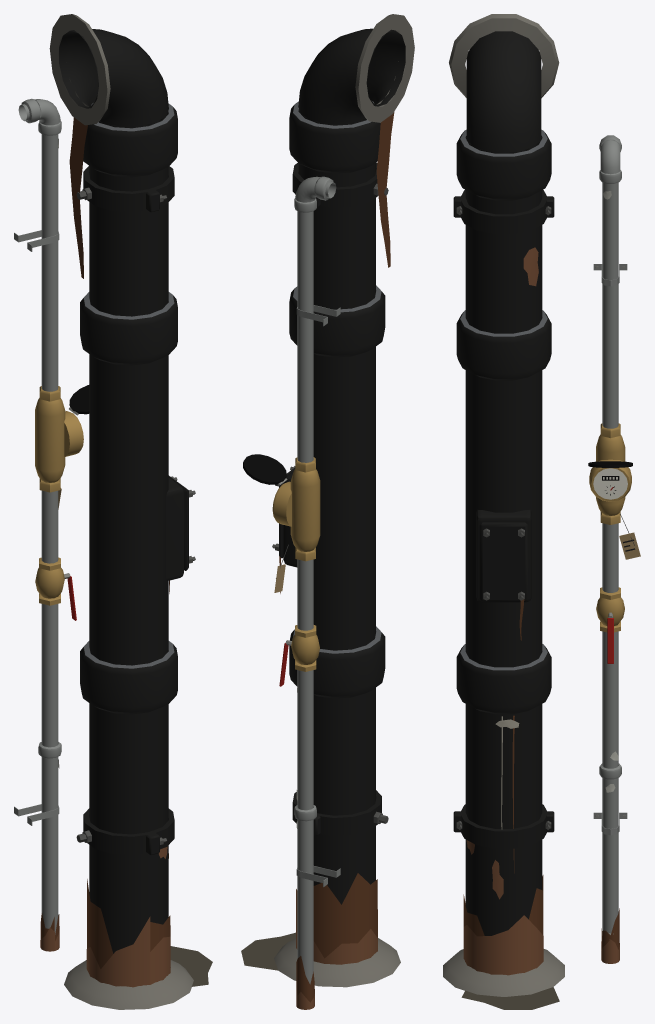
The model's file is pipe_riser@1.glb.
The picture shows the model from 3 angles, left to right: view 1: azimuth 30°, elevation 25°; view 2: azimuth 150°, elevation 25°; view 3: azimuth 270°, elevation 25°; orthographic projection. The views are drawn at different scales.
Parts seen in each view (by area): view 1: steigleitung_guss0, steigleitung_guss4, steigleitung_guss3, steigleitung_guss5, steigleitung_guss14, steigleitung_guss13, steigleitung_guss1, steigleitung_guss17, steigleitung_guss2, steigleitung_guss9; view 2: steigleitung_guss0, steigleitung_guss4, steigleitung_guss13, steigleitung_guss3, steigleitung_guss5, steigleitung_guss14, steigleitung_guss17, steigleitung_guss9, steigleitung_guss1; view 3: steigleitung_guss0, steigleitung_guss4, steigleitung_guss3, steigleitung_guss14, steigleitung_guss5, steigleitung_guss13, steigleitung_guss1, steigleitung_guss17, steigleitung_guss8, steigleitung_guss2.
Boxes of the visible parts, x1=… form: steigleitung_guss0: x1=59, y1=29, x2=188, y2=953; steigleitung_guss4: x1=14, y1=98, x2=61, y2=934; steigleitung_guss3: x1=49, y1=14, x2=193, y2=1009; steigleitung_guss5: x1=35, y1=386, x2=83, y2=605; steigleitung_guss14: x1=40, y1=846, x2=170, y2=987; steigleitung_guss13: x1=40, y1=117, x2=170, y2=968; steigleitung_guss1: x1=83, y1=103, x2=174, y2=668; steigleitung_guss17: x1=170, y1=946, x2=212, y2=986; steigleitung_guss2: x1=76, y1=187, x2=195, y2=844; steigleitung_guss9: x1=69, y1=385, x2=89, y2=414; steigleitung_guss0: x1=279, y1=28, x2=405, y2=904; steigleitung_guss4: x1=294, y1=176, x2=340, y2=984; steigleitung_guss13: x1=279, y1=112, x2=394, y2=1002; steigleitung_guss3: x1=274, y1=14, x2=414, y2=987; steigleitung_guss5: x1=272, y1=457, x2=320, y2=671; steigleitung_guss14: x1=296, y1=889, x2=377, y2=1009; steigleitung_guss17: x1=241, y1=932, x2=295, y2=970; steigleitung_guss9: x1=243, y1=454, x2=286, y2=484; steigleitung_guss1: x1=293, y1=101, x2=381, y2=653; steigleitung_guss0: x1=453, y1=31, x2=554, y2=935; steigleitung_guss4: x1=593, y1=135, x2=627, y2=935; steigleitung_guss3: x1=443, y1=14, x2=564, y2=996; steigleitung_guss14: x1=463, y1=247, x2=619, y2=975; steigleitung_guss5: x1=589, y1=423, x2=631, y2=632; steigleitung_guss13: x1=463, y1=599, x2=619, y2=949; steigleitung_guss1: x1=460, y1=129, x2=547, y2=670; steigleitung_guss17: x1=461, y1=987, x2=559, y2=1009; steigleitung_guss8: x1=593, y1=468, x2=627, y2=499; steigleitung_guss2: x1=456, y1=206, x2=634, y2=829.
Bounding box in the file's own units: 0.3201 × 2.13 × 0.4082.
